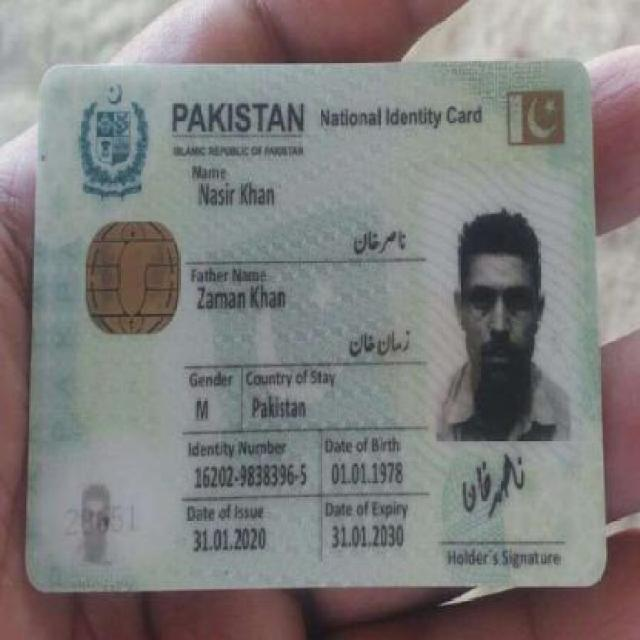Front: (26, 60, 617, 592)
